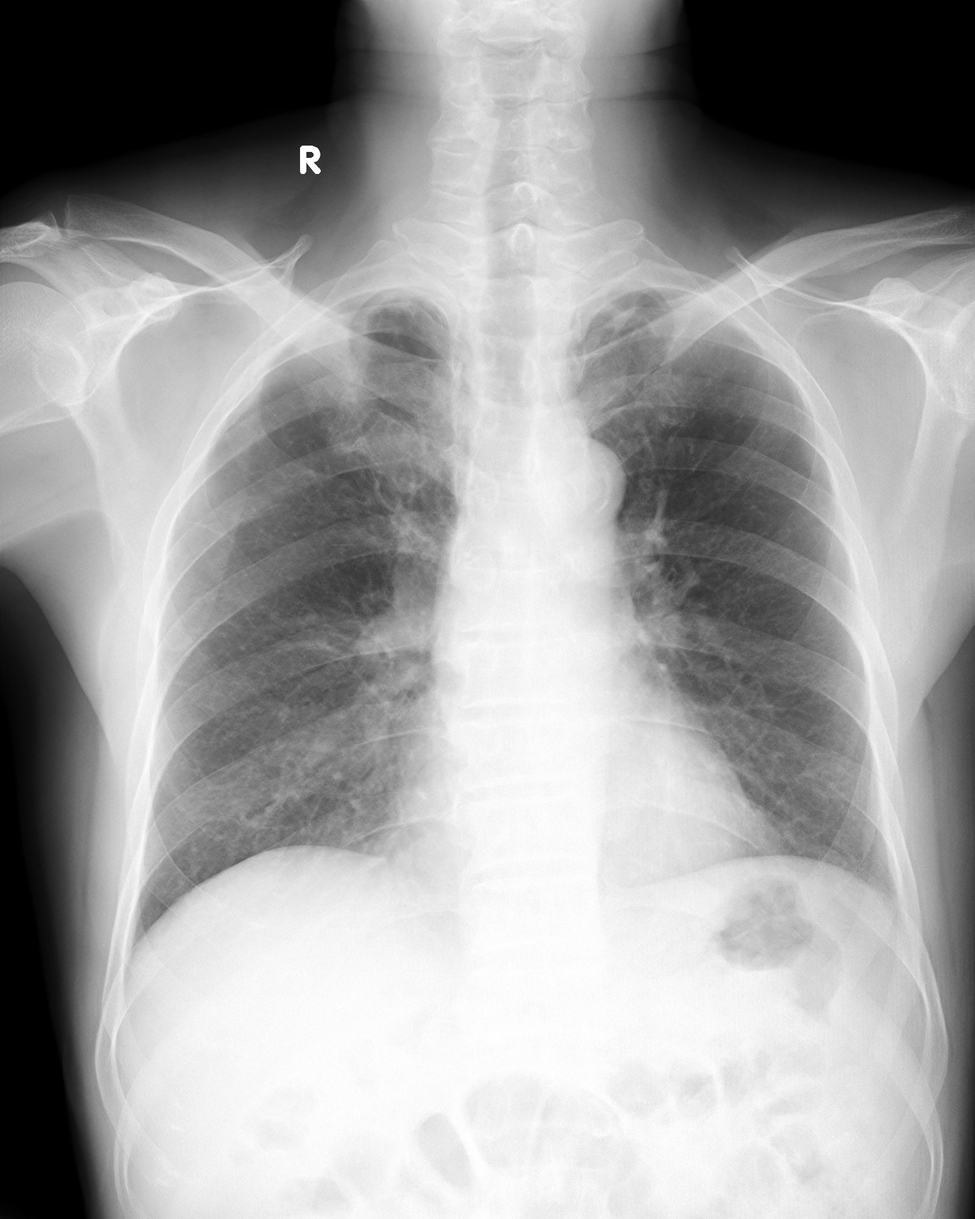Aortic enlargement: (523, 432, 627, 542)
Pleural thickening: (334, 268, 443, 307)
Pulmonary fibrosis: (340, 303, 363, 389), (589, 297, 642, 334)
